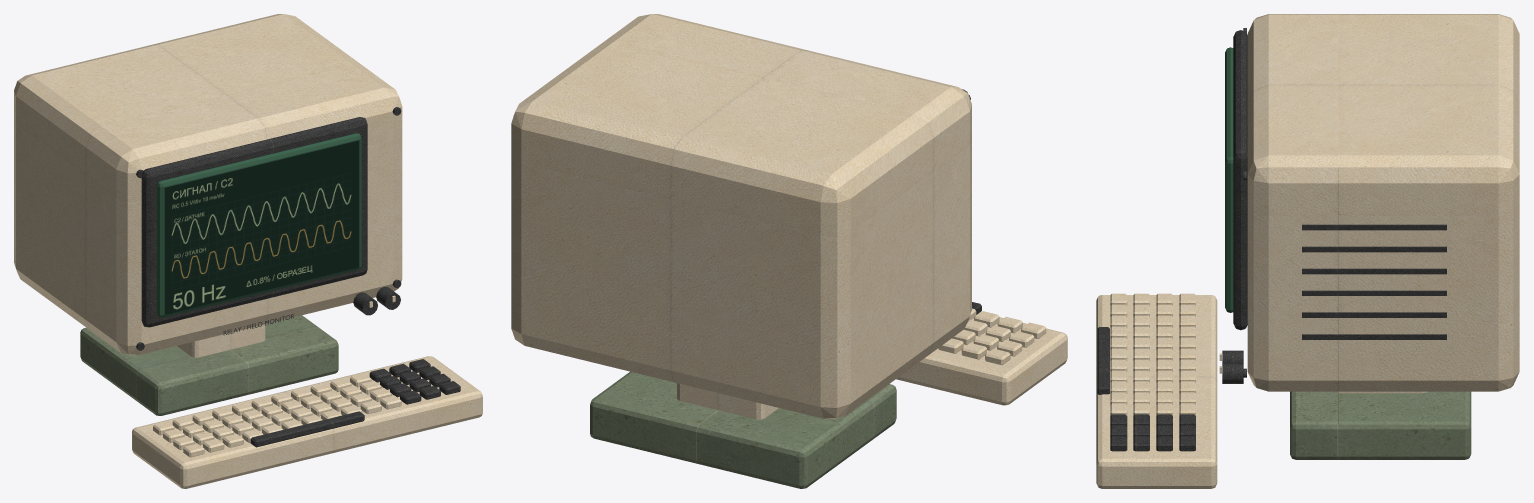
File: crt_terminal.glb
3 views of the same model, side by side, from view 1: azimuth 30°, elevation 25°; view 2: azimuth 150°, elevation 25°; view 3: azimuth 270°, elevation 25° (orthographic). The views are drawn at different scales.
Parts seen in each view (by area): view 1: Aged ivory ABS, CRT calibrated waveform, Monitor foot, Bakelite and rubber, Curved screen face; view 2: Aged ivory ABS, Monitor foot; view 3: Aged ivory ABS, Bakelite and rubber, Monitor foot, Curved screen face.
Part boxes in pixels (<box>): Aged ivory ABS: <box>14,14,482,488</box>; CRT calibrated waveform: <box>164,140,359,314</box>; Monitor foot: <box>80,315,338,415</box>; Bakelite and rubber: <box>136,107,460,447</box>; Curved screen face: <box>156,133,361,317</box>; Aged ivory ABS: <box>511,14,1067,419</box>; Monitor foot: <box>590,371,896,488</box>; Aged ivory ABS: <box>1096,14,1519,488</box>; Bakelite and rubber: <box>1097,28,1446,451</box>; Monitor foot: <box>1290,391,1471,459</box>; Curved screen face: <box>1225,47,1233,312</box>.
Size of the model in its own units: 0.66 by 0.595 by 0.7.
5 materials, 4 textured.
